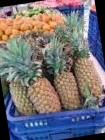Pineapple: (16, 39, 61, 113), (72, 37, 103, 100)
